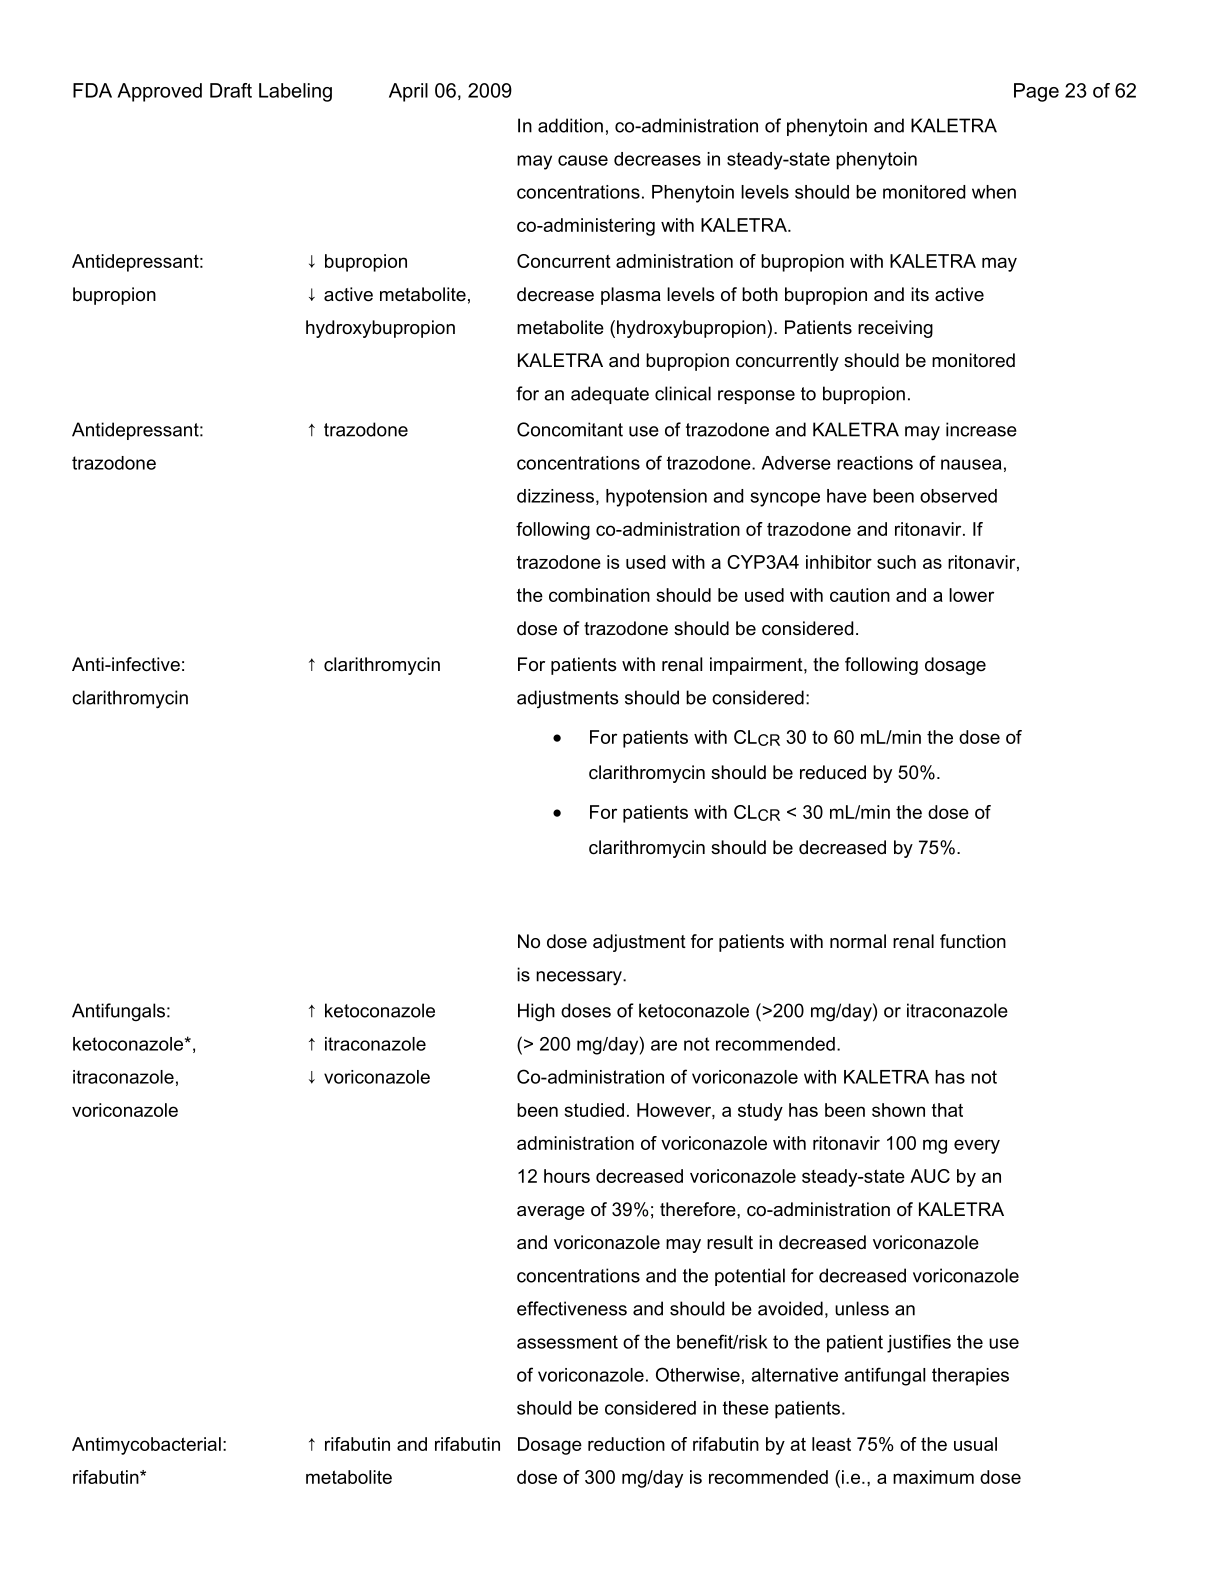nolines: (67, 113, 1023, 1490)
